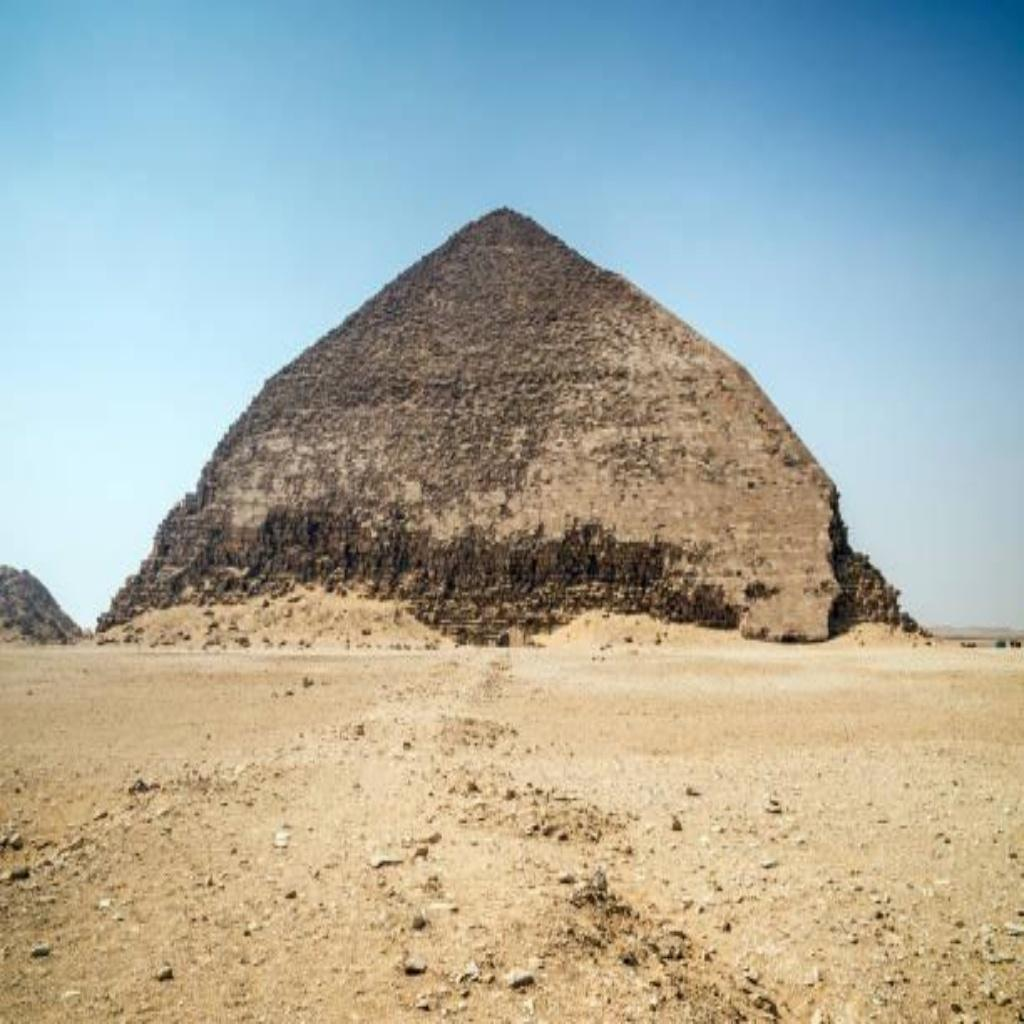Bent Pyramid of King Sneferu: (92, 198, 922, 650)
